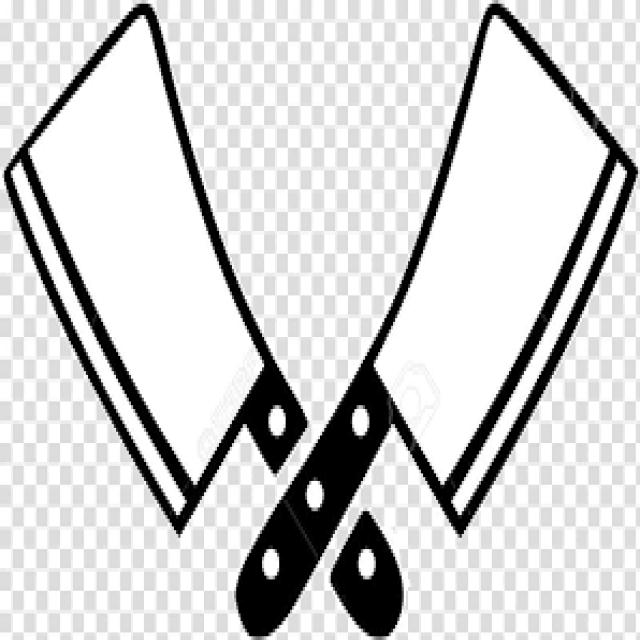Knife: (232, 0, 638, 636), (2, 0, 307, 534)
